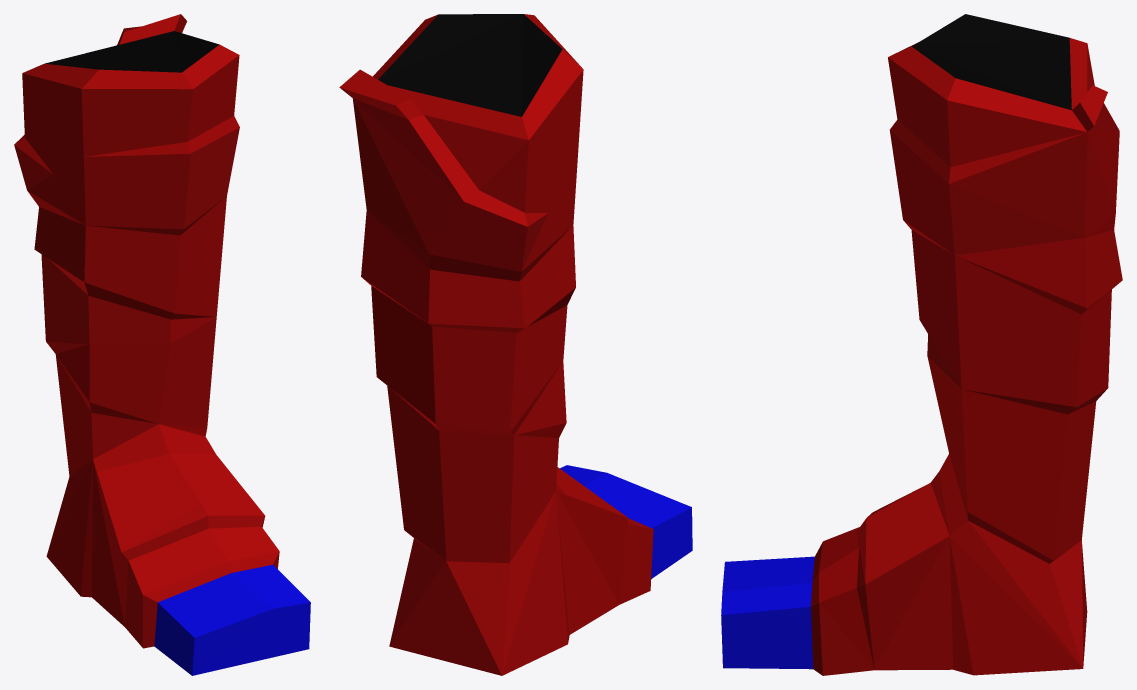
Rendered from Chr_LegLeft_Male_Static_03.fbx.
3 views of the same model, side by side, from view 1: azimuth 30°, elevation 25°; view 2: azimuth 150°, elevation 25°; view 3: azimuth 270°, elevation 25° (orthographic). The views are drawn at different scales.
Visible parts, largest first — view 1: Chr_LegLeft_Male_03; view 2: Chr_LegLeft_Male_03; view 3: Chr_LegLeft_Male_03.
Boxes of the visible parts, x1,y1,x2,y2 form: Chr_LegLeft_Male_03: (14, 14, 310, 675); Chr_LegLeft_Male_03: (339, 14, 692, 675); Chr_LegLeft_Male_03: (721, 14, 1122, 675).
Size of the model in its own units: 13.79 by 40.63 by 24.63.
